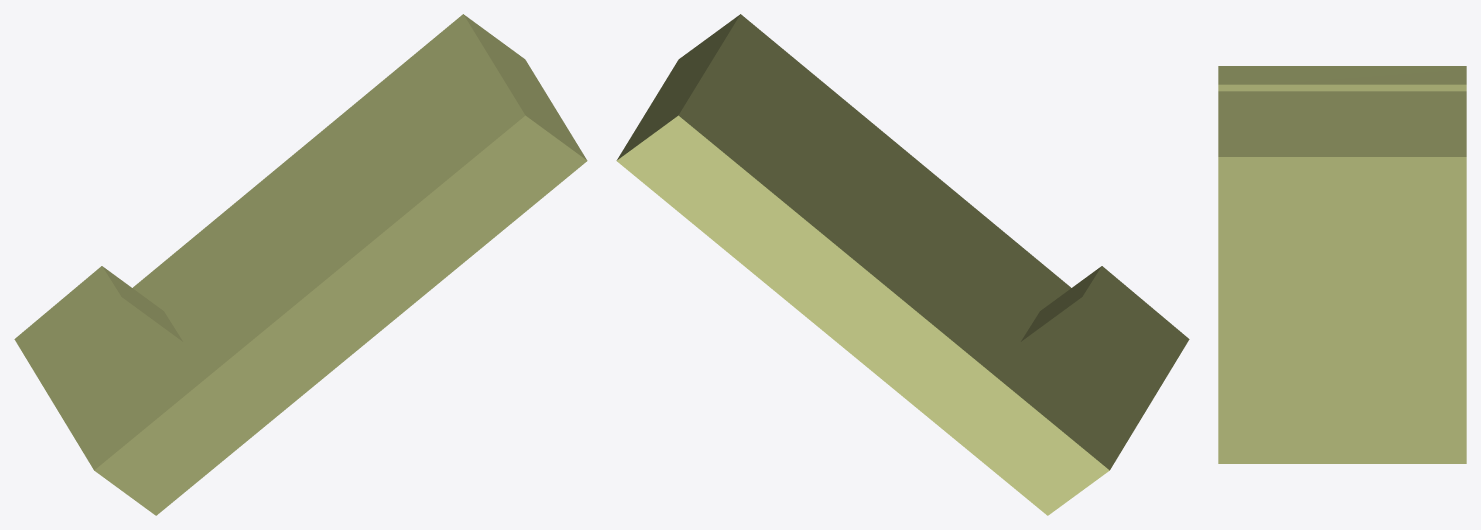
The picture shows the model from 3 angles, left to right: view 1: azimuth 30°, elevation 25°; view 2: azimuth 150°, elevation 25°; view 3: azimuth 270°, elevation 25°; orthographic projection. The views are drawn at different scales.
Visible parts, largest first — view 1: 0_1_0_0_1_0_2_3_2_2; view 2: 0_1_0_0_1_0_2_3_2_2; view 3: 0_1_0_0_1_0_2_3_2_2.
Part boxes in pixels (x1,y1,x2,y2): 0_1_0_0_1_0_2_3_2_2: (14, 14, 587, 515); 0_1_0_0_1_0_2_3_2_2: (616, 14, 1189, 515); 0_1_0_0_1_0_2_3_2_2: (1218, 66, 1466, 463).
Size of the model in its own units: 28.53 by 19.55 by 6.
